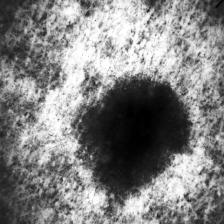Benign Marking or Mole: (97, 86, 195, 184)
